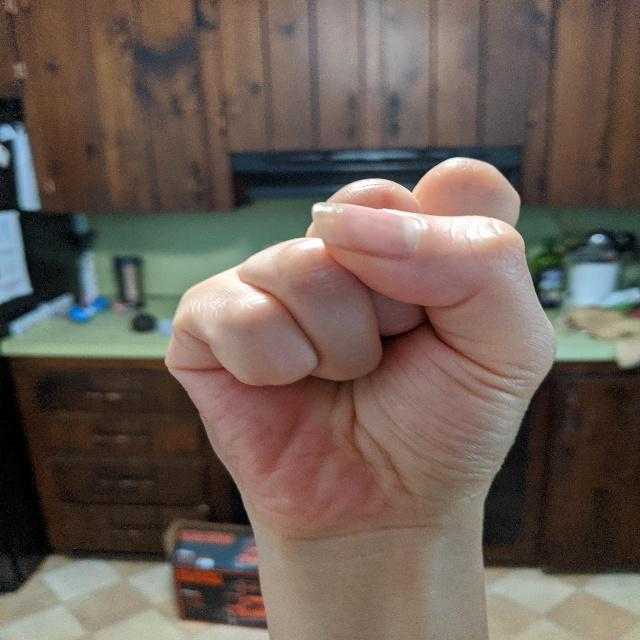S: (156, 150, 561, 555)
